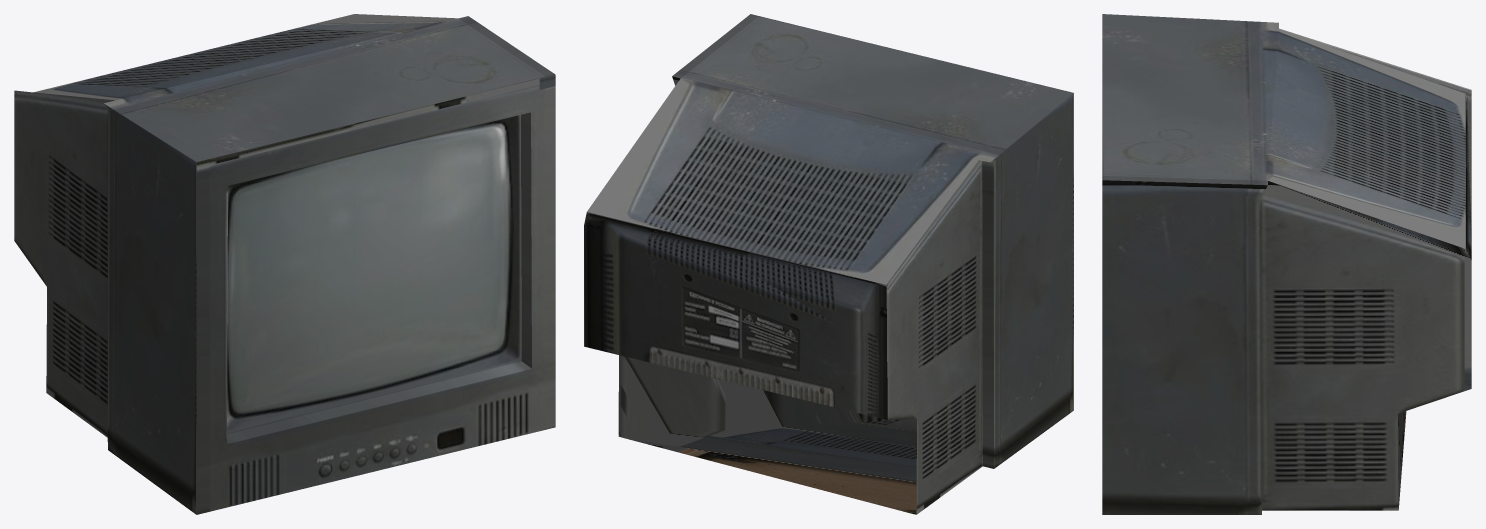
File: old_crt_tv_psx.glb
The picture shows the model from 3 angles, left to right: view 1: azimuth 30°, elevation 25°; view 2: azimuth 150°, elevation 25°; view 3: azimuth 270°, elevation 25°; orthographic projection. The views are drawn at different scales.
Parts seen in each view (by area): view 1: Object_2; view 2: Object_2; view 3: Object_2.
Boxes of the visible parts, x1,y1,x2,y2 form: Object_2: [14, 14, 555, 514]; Object_2: [584, 14, 1073, 514]; Object_2: [1102, 14, 1471, 514].
Size of the model in its own units: 2.13 by 2 by 2.
1 material, 1 textured.
